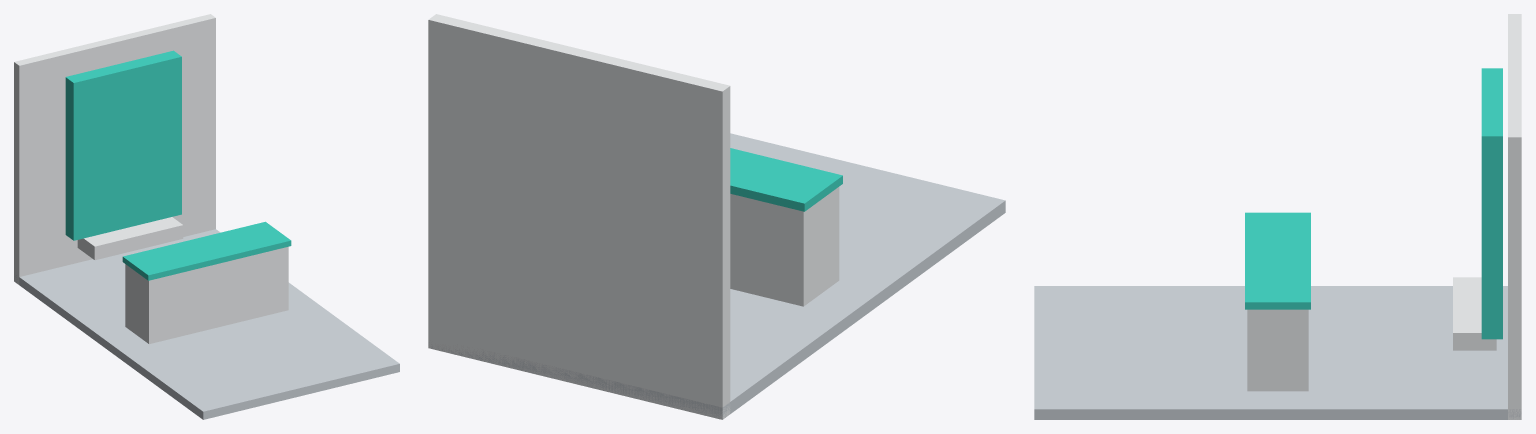
The picture shows the model from 3 angles, left to right: view 1: azimuth 30°, elevation 25°; view 2: azimuth 150°, elevation 25°; view 3: azimuth 270°, elevation 25°; orthographic projection. The views are drawn at different scales.
Visible parts, largest first — view 1: Exhibition Booth Concept; view 2: Exhibition Booth Concept; view 3: Exhibition Booth Concept.
Part boxes in pixels (x1,y1,x2,y2): Exhibition Booth Concept: [14, 14, 399, 419]; Exhibition Booth Concept: [428, 14, 1005, 419]; Exhibition Booth Concept: [1034, 14, 1521, 419].
Bounding box in the file's own units: 3 × 3.2 × 5.
